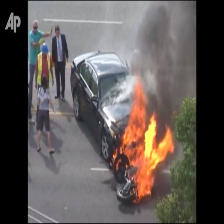fire_h: (113, 82, 174, 202)
fire_l: (115, 157, 129, 171), (111, 148, 117, 165)
